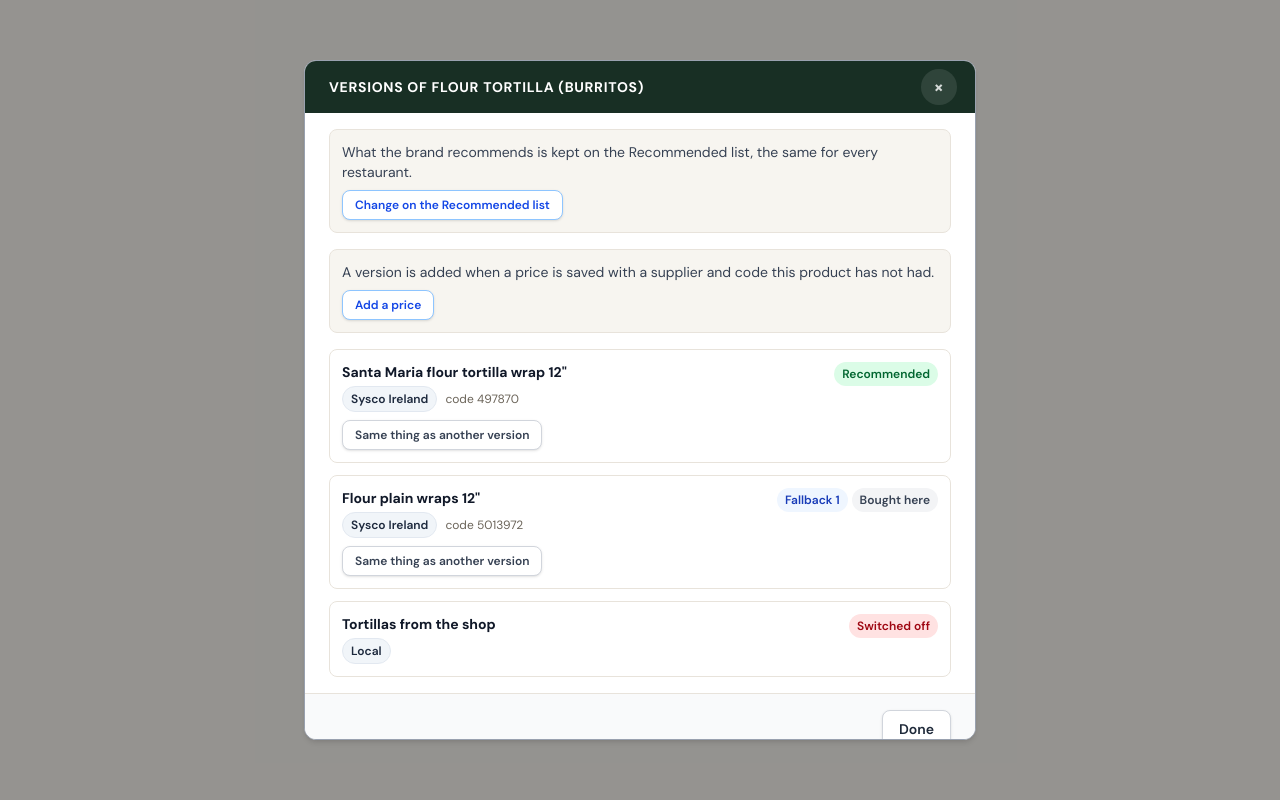
Test case: joining two versions that are one thing › says why when the database refuses it, and joins nothing
The image size is (1280, 800).
Click the button "Same thing as another version" below "Flour plain wraps 12\"": {"x": 442, "y": 561} [342, 546, 542, 576]
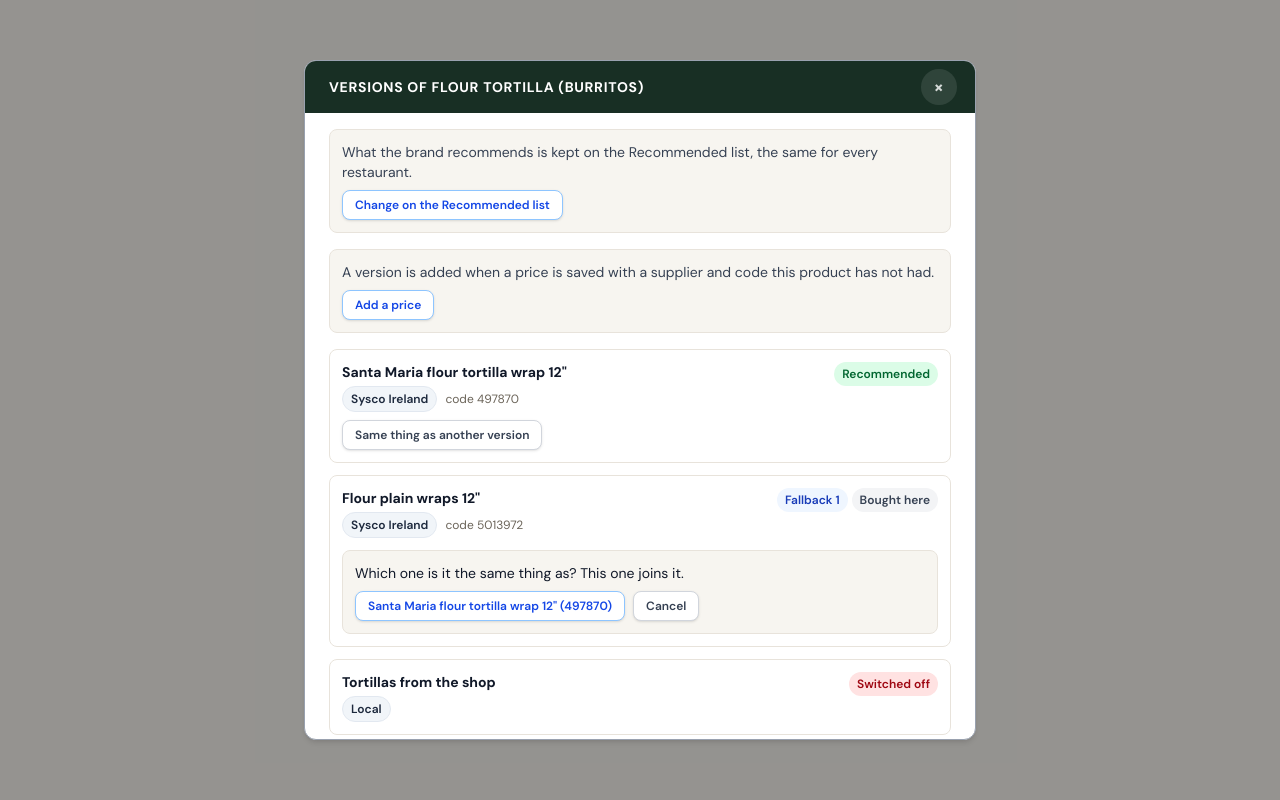
Click the button "Santa Maria flour tortilla wrap 12\" (497870)": {"x": 490, "y": 606} [355, 591, 625, 621]
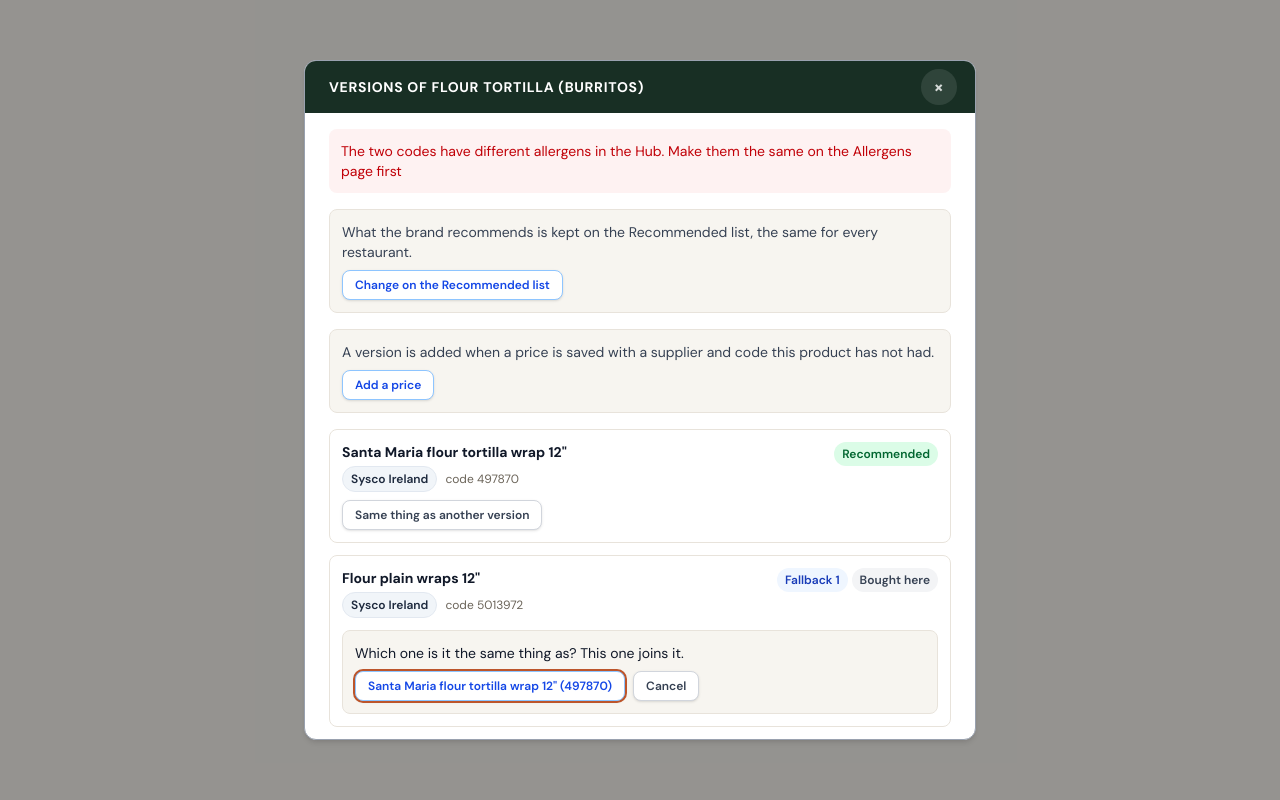
Now the text "different allergens in the Hub" is shown, box [341, 142, 912, 180]
